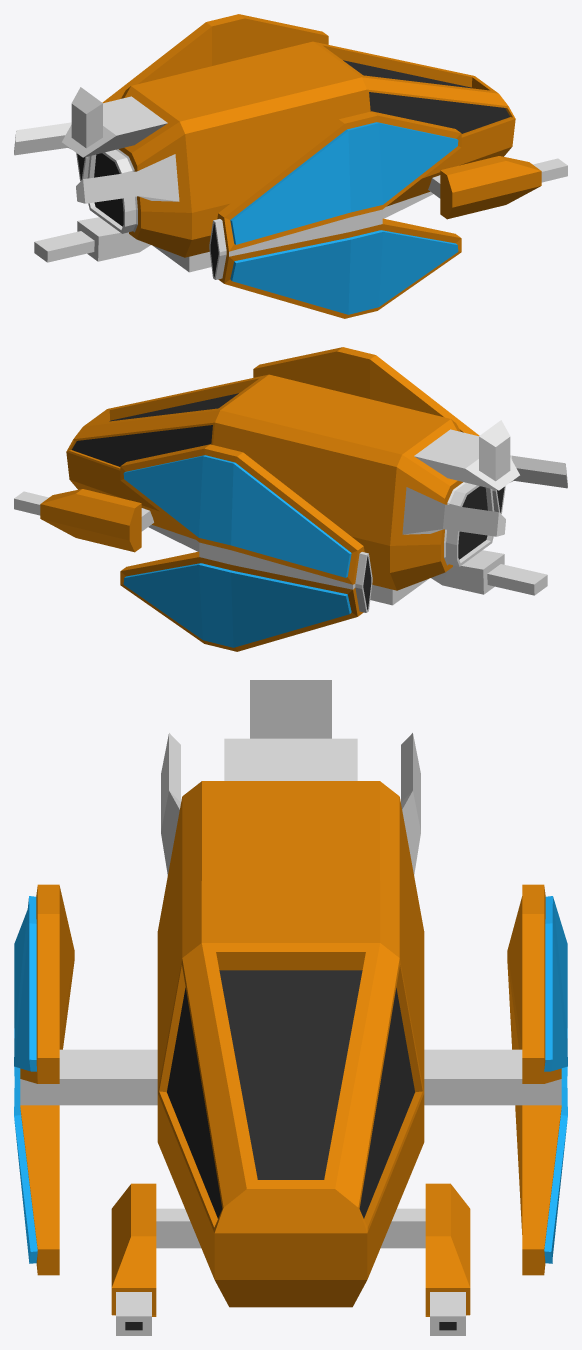
The model's file is Space_Ship_4.fbx.
The picture shows the model from 3 angles, top to bottom: view 1: azimuth 30°, elevation 25°; view 2: azimuth 150°, elevation 25°; view 3: azimuth 270°, elevation 25°; orthographic projection. The views are drawn at different scales.
Parts seen in each view (by area): view 1: Space_Ship.003; view 2: Space_Ship.003; view 3: Space_Ship.003.
Part boxes in pixels (x1=…): Space_Ship.003: x1=14, y1=14, x2=567, y2=318; Space_Ship.003: x1=14, y1=347, x2=567, y2=651; Space_Ship.003: x1=14, y1=680, x2=567, y2=1335.
Bounding box in the file's own units: 758 × 329 × 416.
